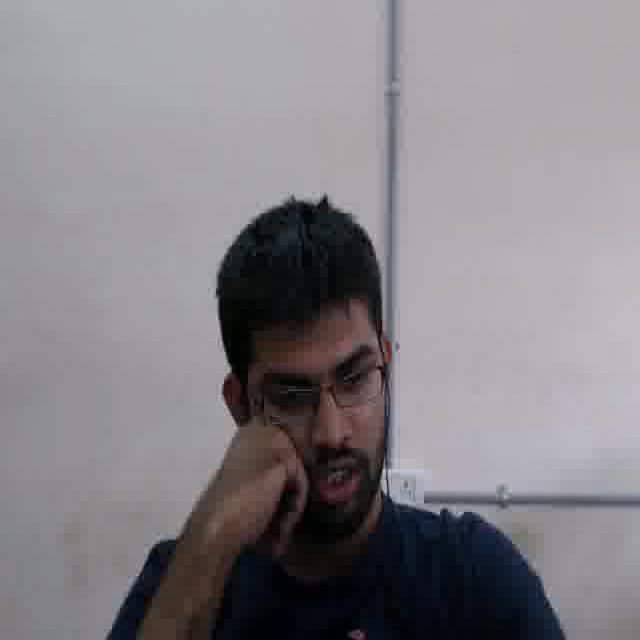Boredom: (244, 308, 382, 525)
